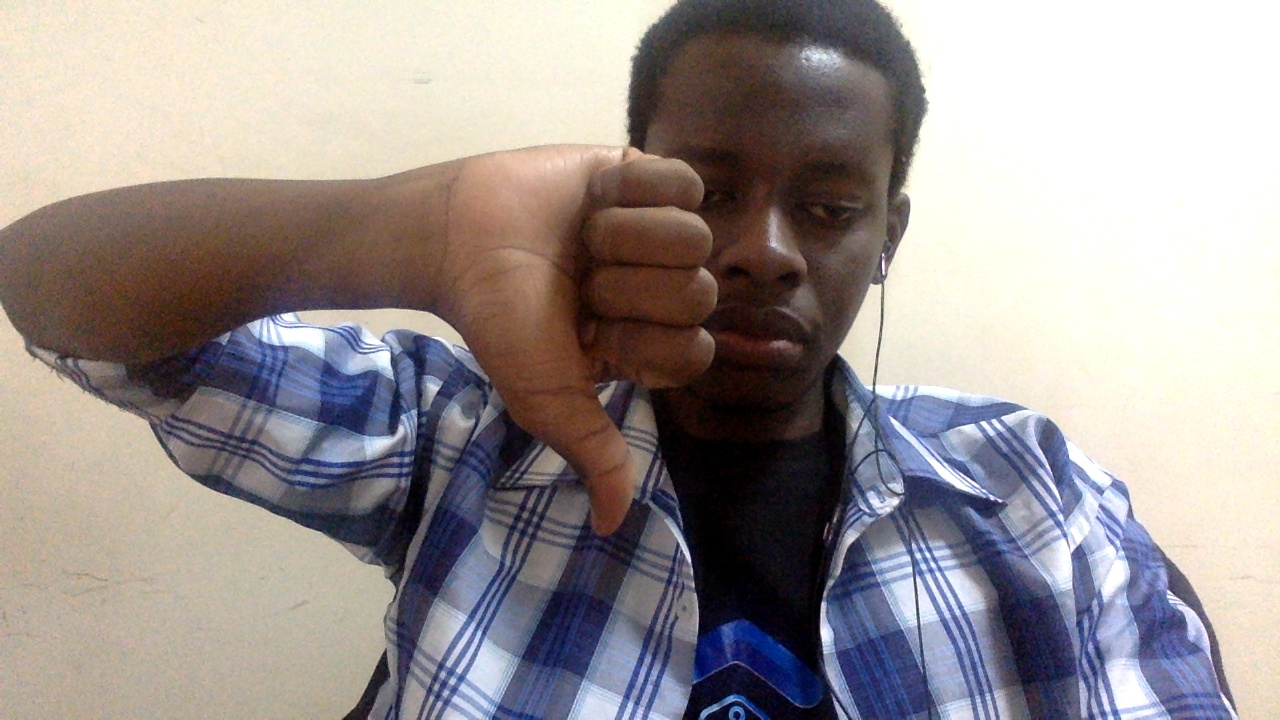ThumbsDown: (442, 143, 720, 539)
